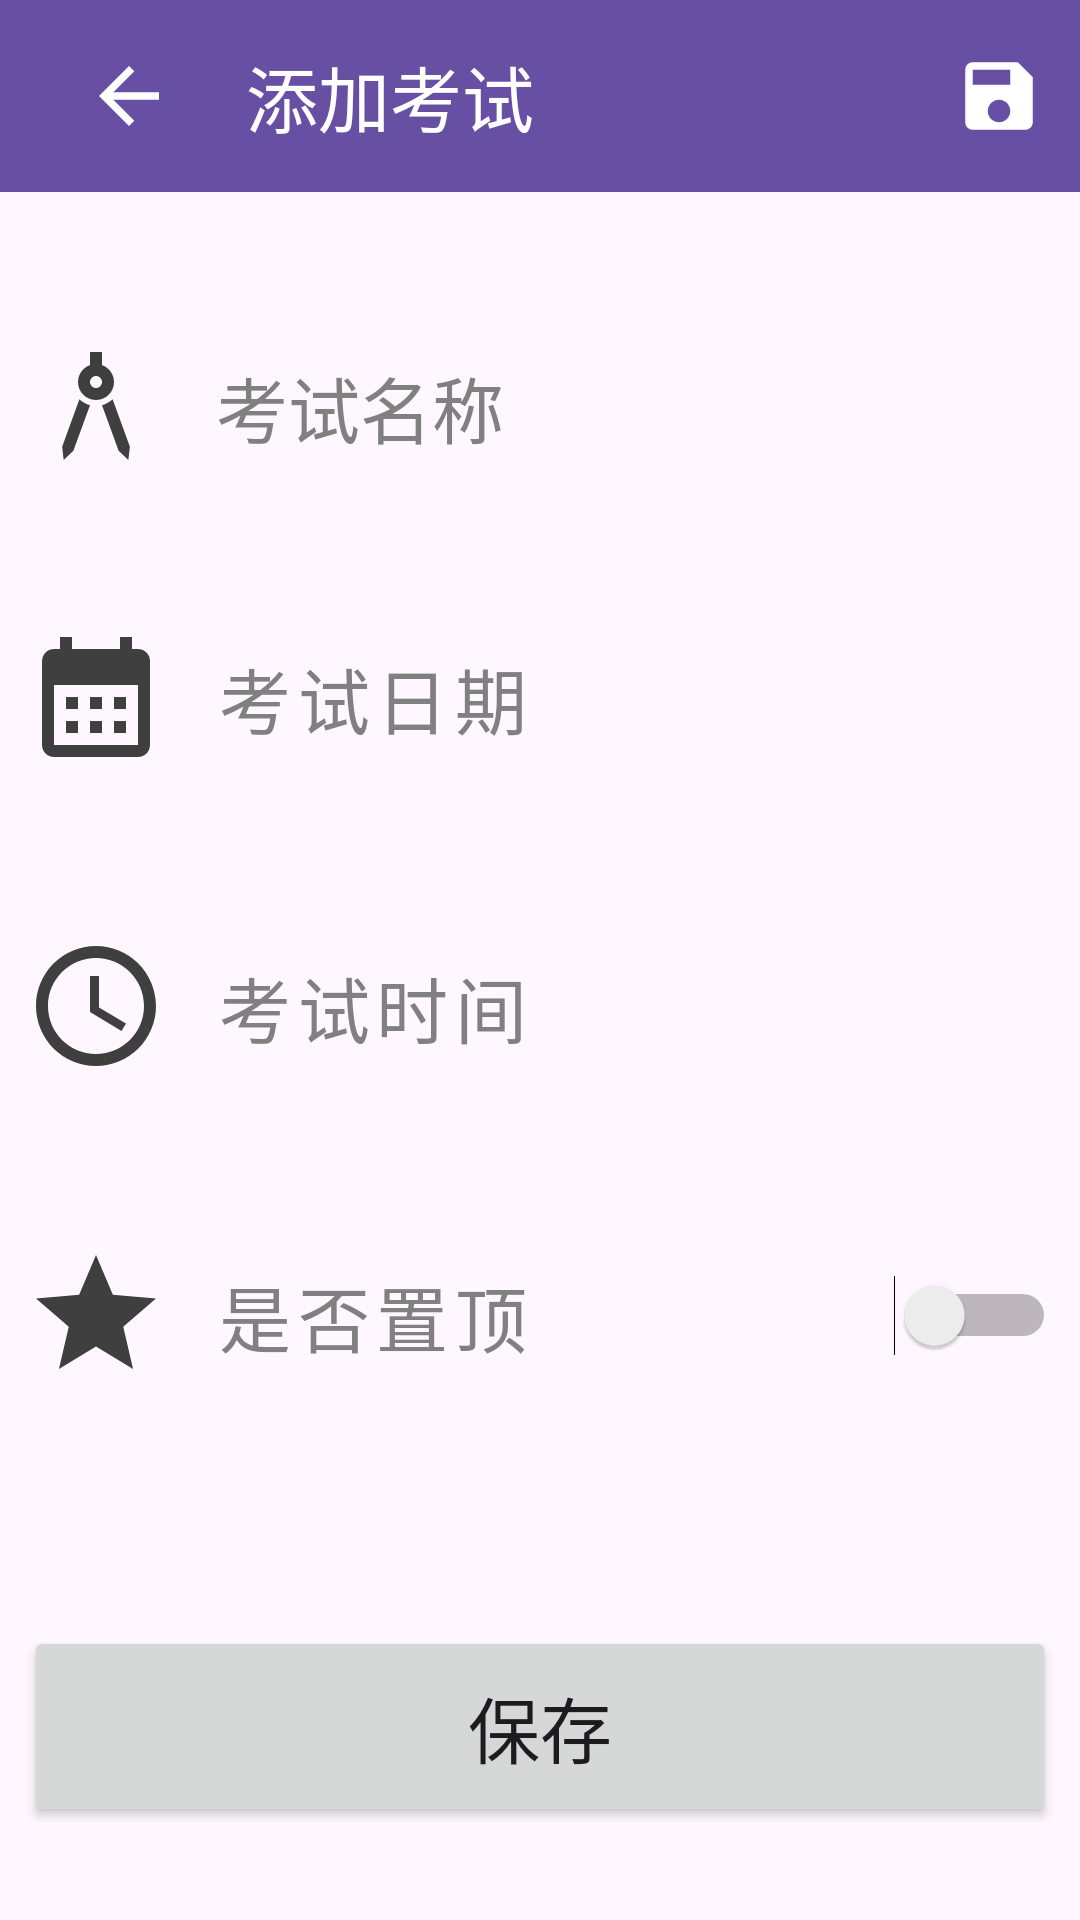

Point at icon controls on the screen. Image size 1080w x 1920h, points as point (x, y).
back: point (129, 96)
calendar: point (96, 697)
is pinned: point (96, 1312)
time: point (96, 1006)
保存考试按钮: point (999, 96)
